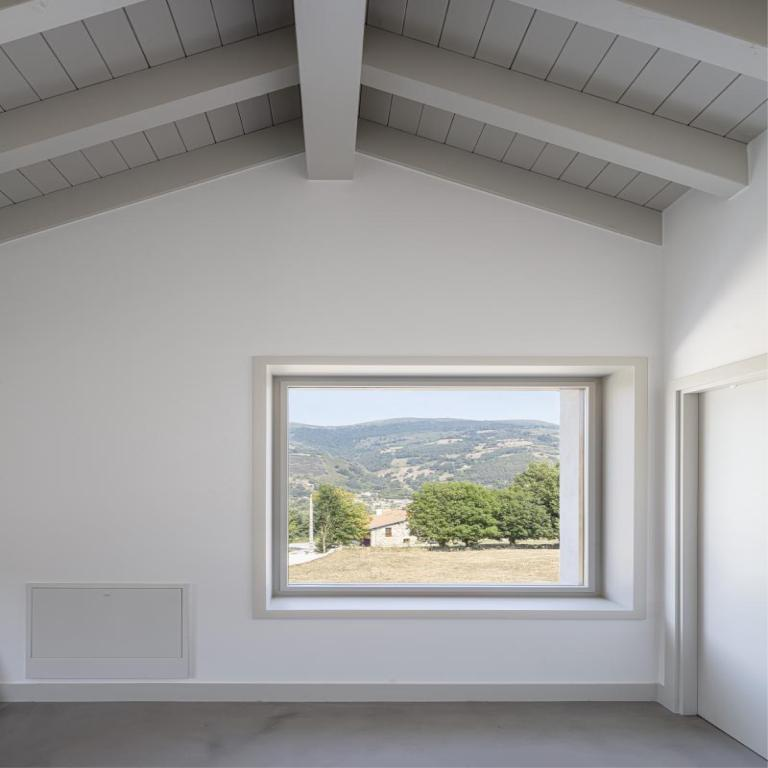white-walls: (8, 192, 747, 565)
